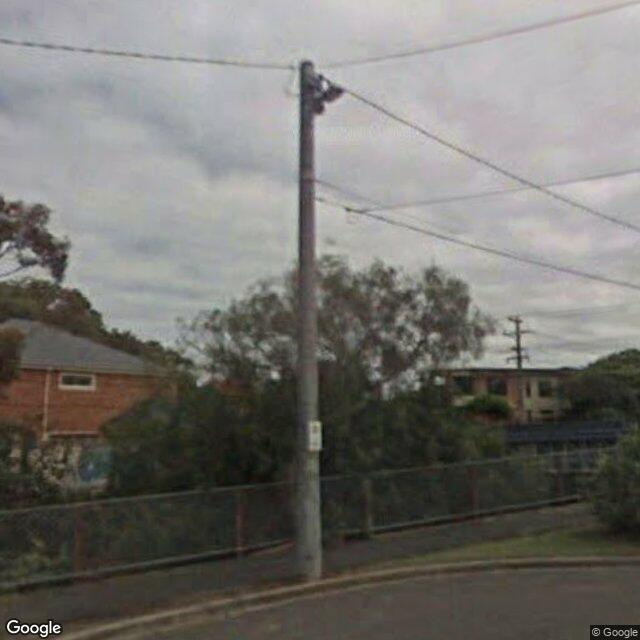crossarm: (502, 330, 535, 336), (506, 355, 530, 360), (511, 346, 527, 352), (508, 317, 522, 323)
timber-pole: (294, 61, 323, 582), (516, 317, 521, 371)
